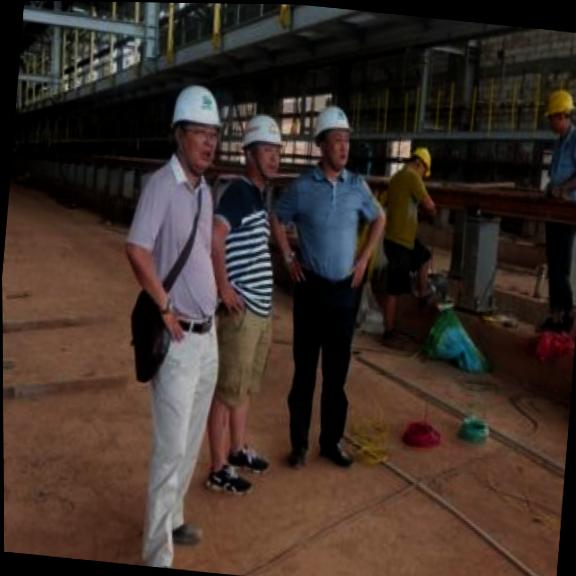no_safety_vest: (118, 157, 225, 327), (275, 161, 389, 281), (205, 170, 283, 310), (380, 170, 431, 253), (537, 115, 576, 223)
